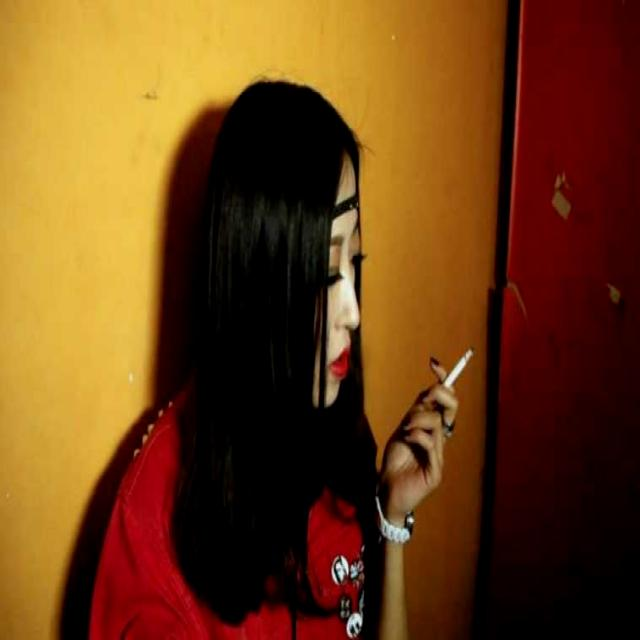Smooking: (441, 328, 476, 394)
